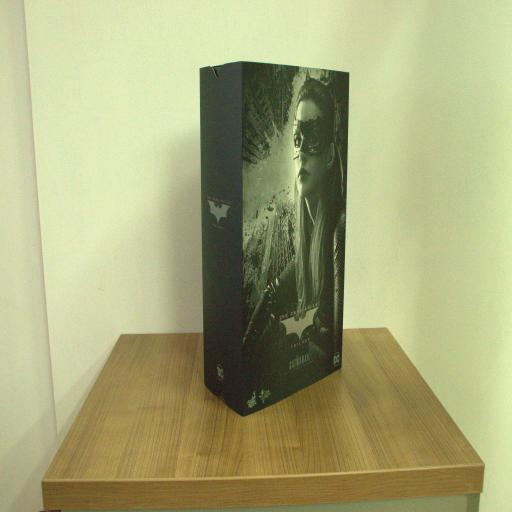catwoman: (200, 58, 351, 416)
